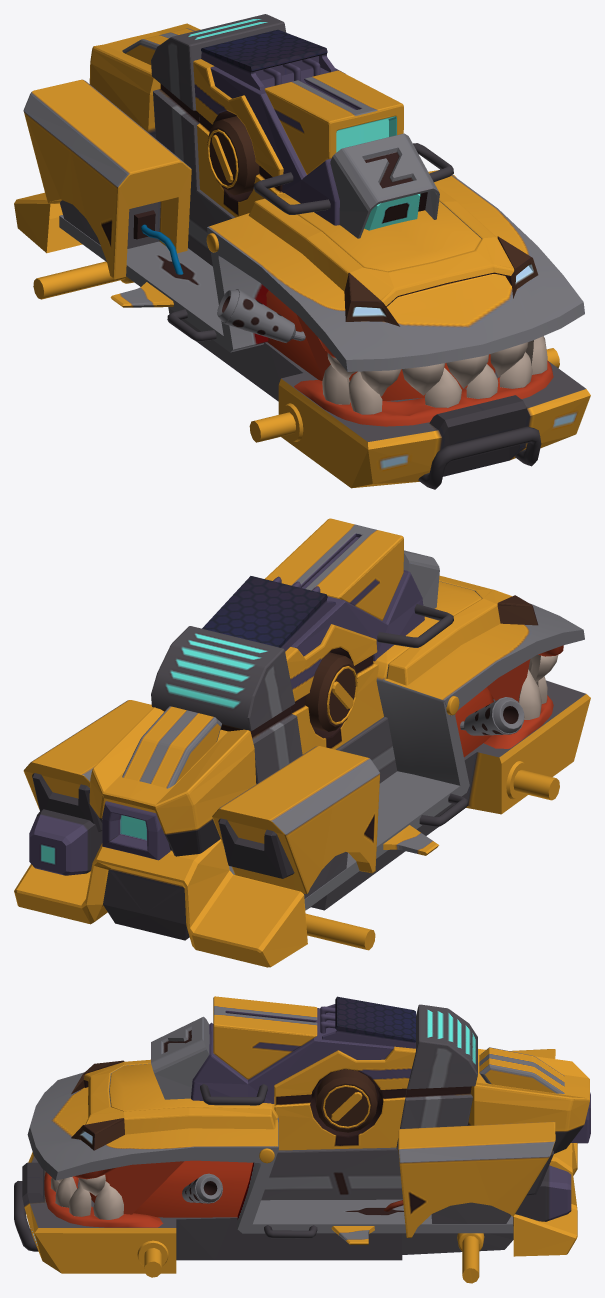
The model's file is Chariot03_cheshen_huai.FBX.
The picture shows the model from 3 angles, top to bottom: view 1: azimuth 30°, elevation 25°; view 2: azimuth 150°, elevation 25°; view 3: azimuth 270°, elevation 25°; orthographic projection. The views are drawn at different scales.
Visible parts, largest first — view 1: Chariot03_cheshen_huai; view 2: Chariot03_cheshen_huai; view 3: Chariot03_cheshen_huai.
Boxes of the visible parts, x1=… form: Chariot03_cheshen_huai: x1=14, y1=14, x2=590, y2=489; Chariot03_cheshen_huai: x1=14, y1=518, x2=590, y2=967; Chariot03_cheshen_huai: x1=14, y1=996, x2=590, y2=1283.
Bounding box in the file's own units: 2.42 × 1.99 × 4.61.
